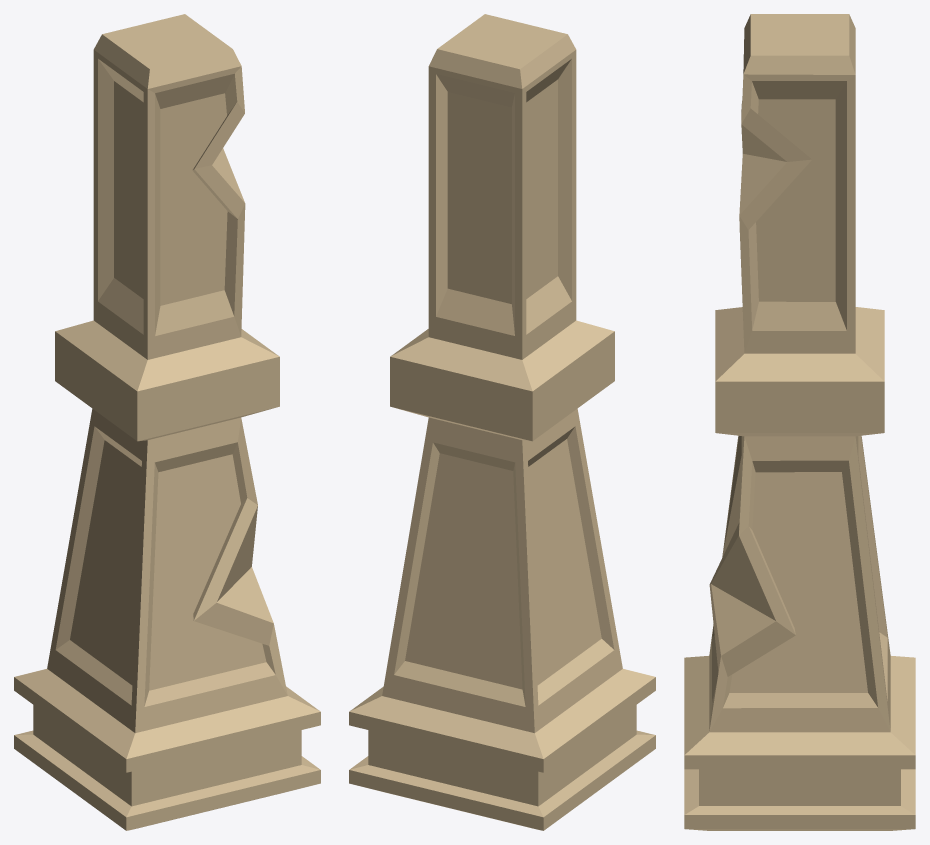
The model's file is SM_TemplePillar06_Gaeta.fbx.
3 views of the same model, side by side, from view 1: azimuth 30°, elevation 25°; view 2: azimuth 150°, elevation 25°; view 3: azimuth 270°, elevation 25° (orthographic). The views are drawn at different scales.
Parts seen in each view (by area): view 1: Cube.040; view 2: Cube.040; view 3: Cube.040.
Part boxes in pixels (x1,y1,x2,y2): Cube.040: (14,14,320,830); Cube.040: (349,14,655,830); Cube.040: (684,14,915,830).
Bounding box in the file's own units: 0.5133 × 1.86 × 0.5133.
